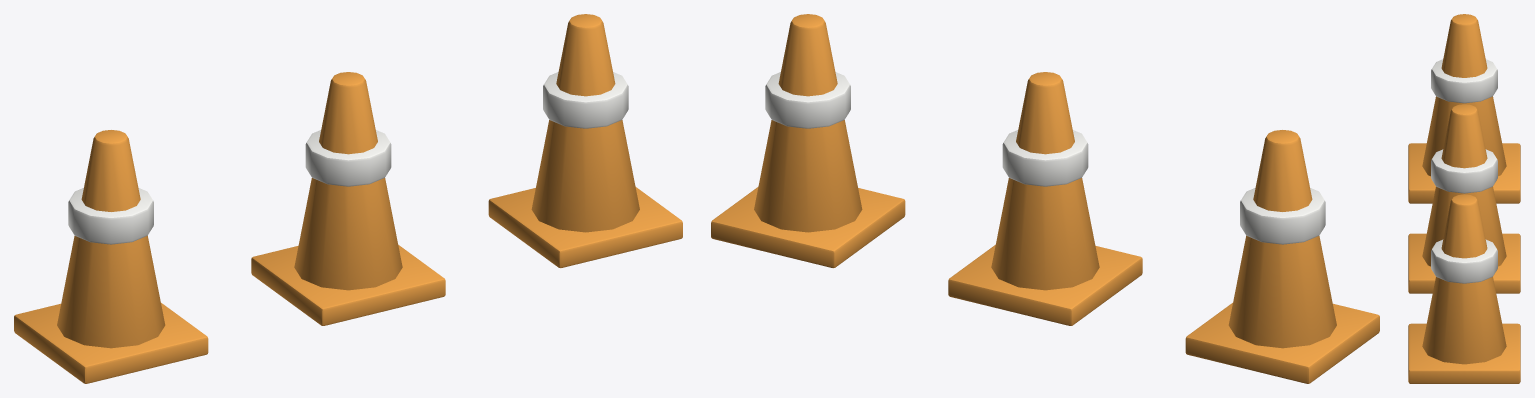
File: th6_pylonen.glb
3 views of the same model, side by side, from view 1: azimuth 30°, elevation 25°; view 2: azimuth 150°, elevation 25°; view 3: azimuth 270°, elevation 25° (orthographic). The views are drawn at different scales.
Visible parts, largest first — view 1: Cone.002, Cone.001, Cone, Cube.001, Cube, Cube.002, Cylinder.001, Cylinder, Cylinder.002; view 2: Cone.002, Cone.001, Cone, Cube.001, Cube, Cube.002, Cylinder.001, Cylinder, Cylinder.002; view 3: Cone.002, Cone.001, Cone, Cube.002, Cube, Cube.001, Cylinder.002, Cylinder, Cylinder.001.
Boxes of the visible parts, left/top/right/bottom form: Cone.002: left=531, top=14, right=639, bottom=232; Cone.001: left=294, top=72, right=402, bottom=290; Cone: left=57, top=130, right=165, bottom=348; Cube.001: left=251, top=245, right=445, bottom=325; Cube: left=14, top=303, right=208, bottom=383; Cube.002: left=488, top=187, right=682, bottom=268; Cylinder.001: left=305, top=130, right=391, bottom=186; Cylinder: left=68, top=188, right=153, bottom=244; Cylinder.002: left=543, top=72, right=628, bottom=128; Cone.002: left=754, top=14, right=862, bottom=232; Cone.001: left=991, top=72, right=1099, bottom=290; Cone: left=1228, top=130, right=1336, bottom=348; Cube.001: left=948, top=245, right=1142, bottom=325; Cube: left=1185, top=303, right=1379, bottom=383; Cube.002: left=711, top=187, right=905, bottom=268; Cylinder.001: left=1002, top=130, right=1088, bottom=186; Cylinder: left=1240, top=188, right=1325, bottom=244; Cylinder.002: left=765, top=72, right=850, bottom=128; Cone.002: left=1422, top=194, right=1506, bottom=364; Cone.001: left=1422, top=104, right=1506, bottom=266; Cone: left=1422, top=14, right=1506, bottom=176; Cube.002: left=1408, top=323, right=1520, bottom=383; Cube: left=1408, top=143, right=1520, bottom=203; Cube.001: left=1408, top=233, right=1520, bottom=293; Cylinder.002: left=1431, top=239, right=1497, bottom=283; Cylinder: left=1431, top=59, right=1497, bottom=103; Cylinder.001: left=1431, top=149, right=1497, bottom=193.
Size of the model in its own units: 2.02 by 0.67 by 0.42.
